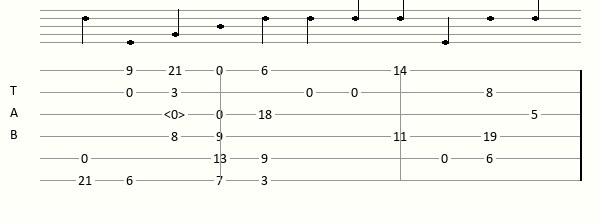0: (81, 152, 92, 165), (126, 86, 137, 99), (216, 64, 227, 77), (216, 108, 227, 121), (306, 86, 317, 99), (351, 86, 362, 99), (441, 152, 452, 165)
11: (393, 130, 411, 143)
13: (213, 152, 231, 165)
14: (393, 64, 411, 77)
18: (258, 108, 276, 121)
19: (483, 130, 501, 143)
21: (78, 174, 96, 187), (168, 64, 186, 77)
3: (171, 86, 182, 99), (261, 174, 272, 187)
5: (531, 108, 542, 121)
6: (126, 174, 137, 187), (261, 64, 272, 77), (486, 152, 497, 165)
7: (216, 174, 227, 187)
8: (171, 130, 182, 143), (486, 86, 497, 99)
9: (126, 64, 137, 77), (216, 130, 227, 143), (261, 152, 272, 165)
harmonic: (164, 108, 189, 121)
